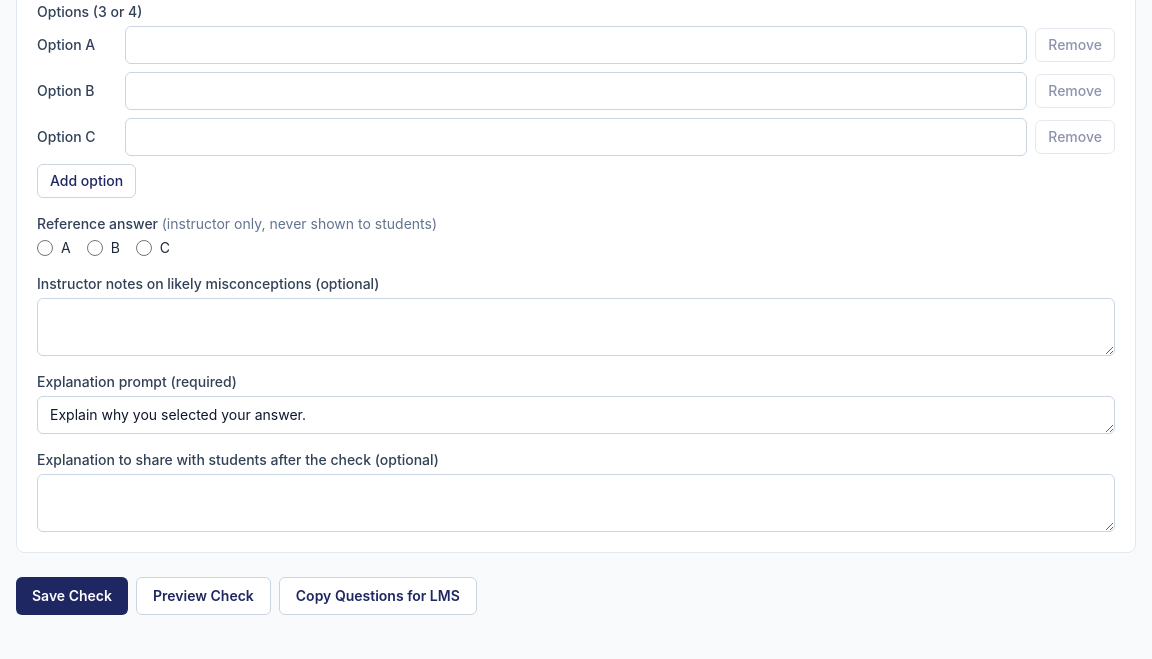
Test: Save shows inline errors and stays on the form when required fields are blank
(page scrolled)
Click the button "Save Check".
click(72, 596)  # box [16,577,128,615]
(page scrolled)
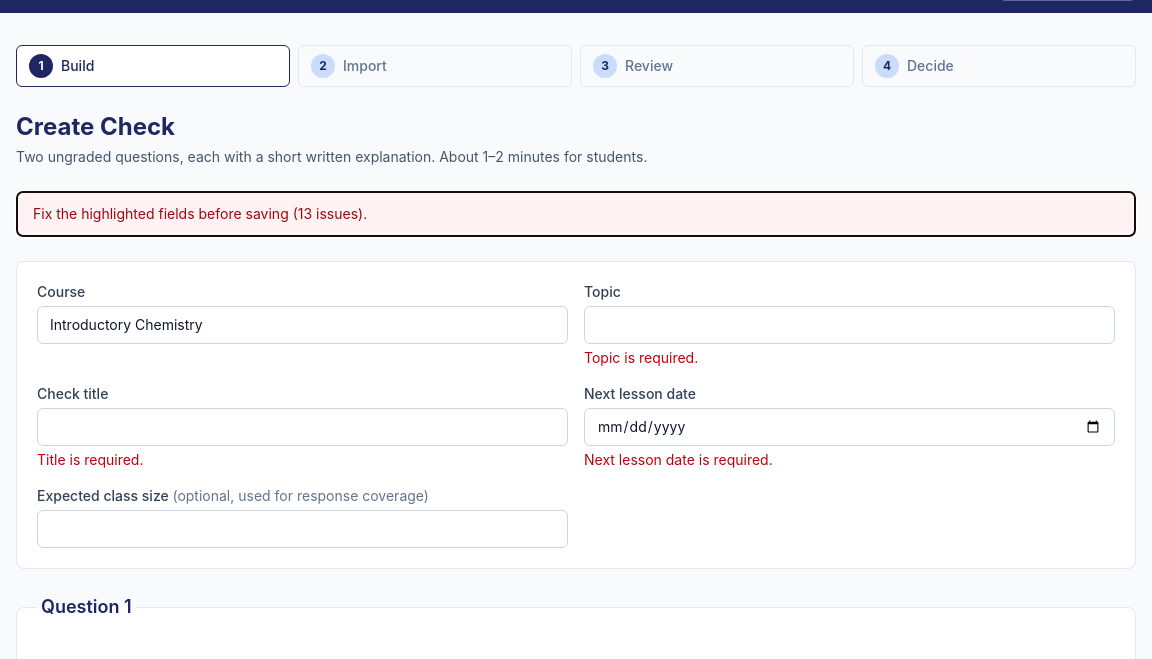
Expected: the heading "Create Check" is shown, [16,112,175,141]
Result: the text "Title is required." is shown at [37,451,144,468]
Result: the message shows "Fix the highlighted fields" at [33,205,298,222]
